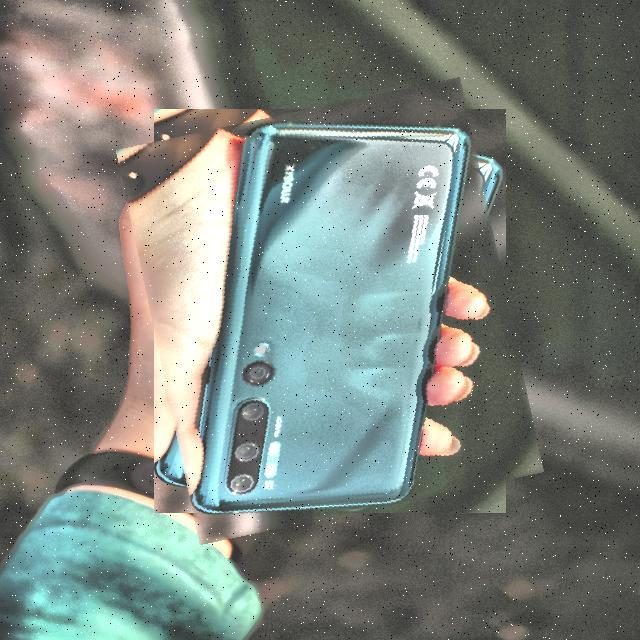Phone: (135, 93, 525, 529)
